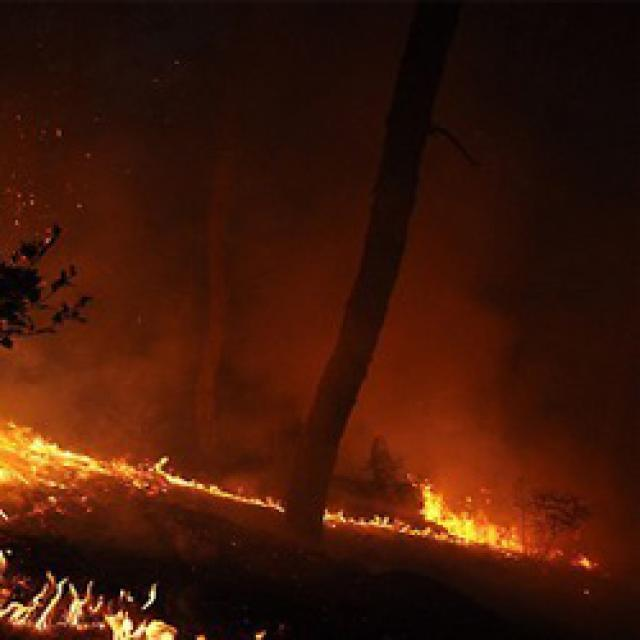Fire: (0, 542, 176, 640), (0, 420, 143, 530), (322, 479, 518, 559), (144, 452, 282, 524), (8, 114, 36, 224), (240, 627, 267, 640), (578, 556, 599, 570), (44, 220, 52, 250), (48, 122, 62, 139), (188, 631, 208, 640)
Smoke: (399, 94, 627, 480), (198, 0, 389, 447), (0, 0, 194, 303), (0, 302, 194, 418), (531, 478, 640, 589)
